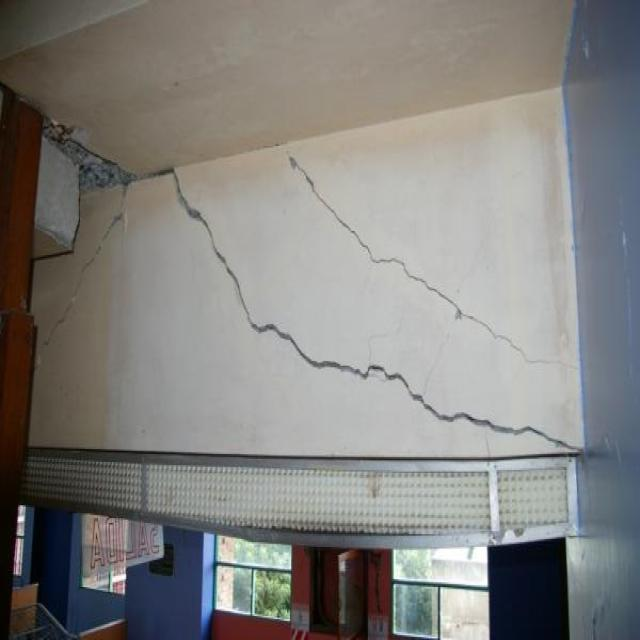crack: (139, 164, 584, 454), (286, 154, 533, 366), (34, 209, 125, 370), (43, 123, 137, 195)
